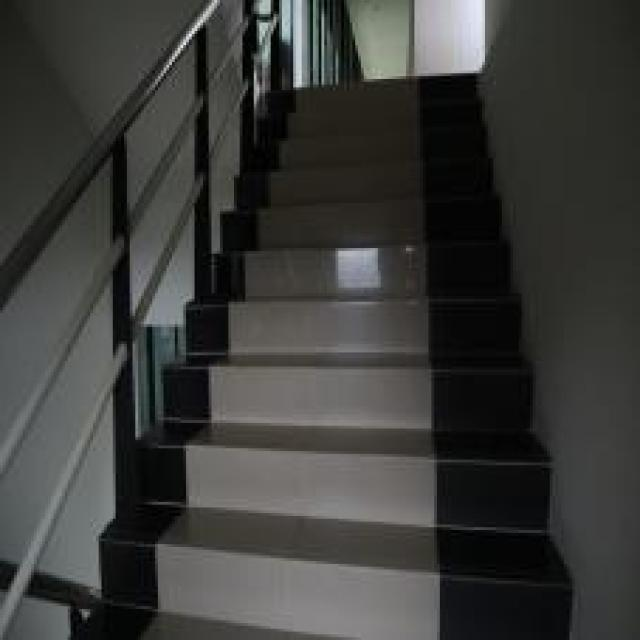upstair: (237, 113, 510, 581)
